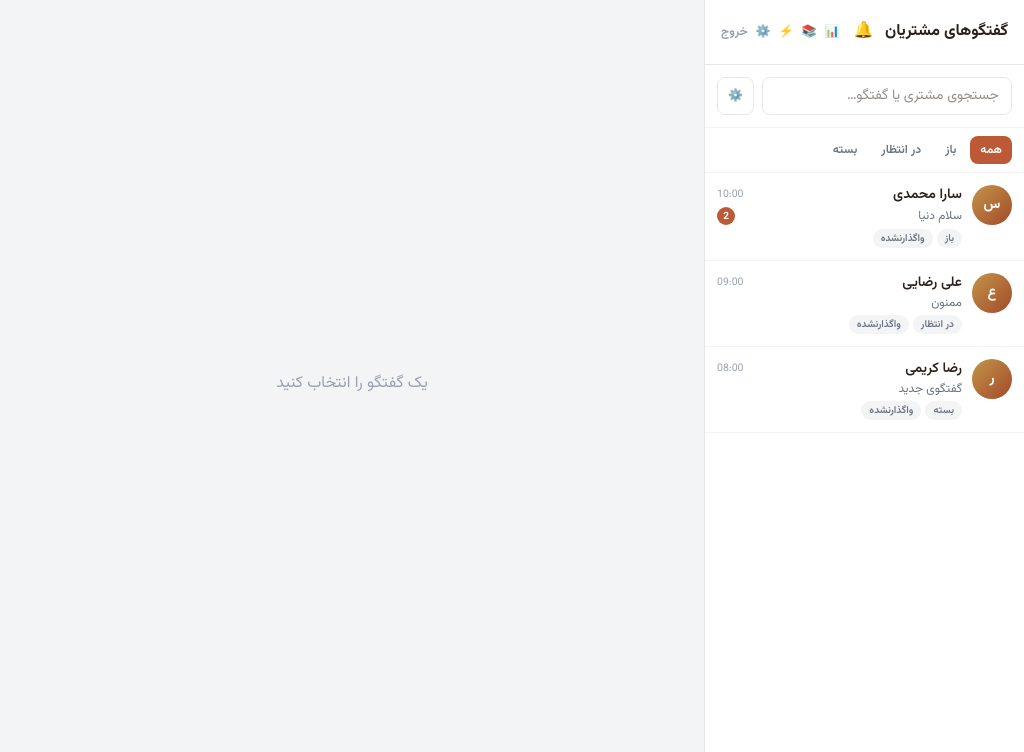
Operator dashboard — customer conversations page › shows a reopen button for closed conversations and reopens them
The width and height of the screenshot is (1024, 752).
Click the text "رضا کریمی". click: click(934, 369)
box: [905, 359, 962, 379]
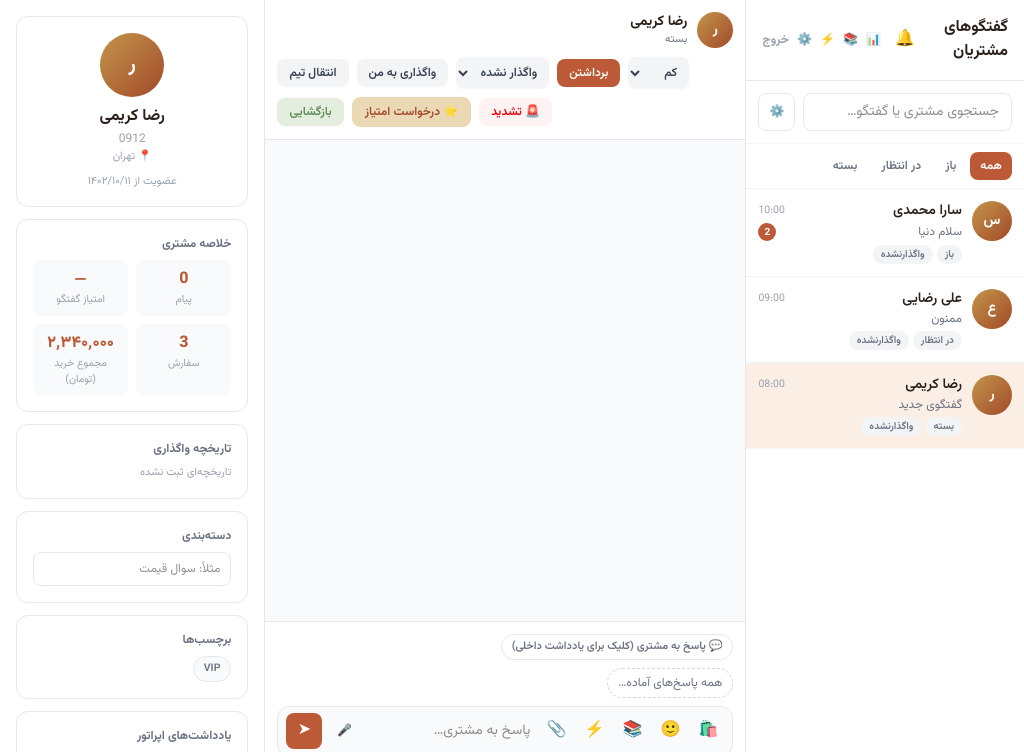
Click the button "بازگشایی". click: click(311, 112)
box: [277, 98, 344, 126]
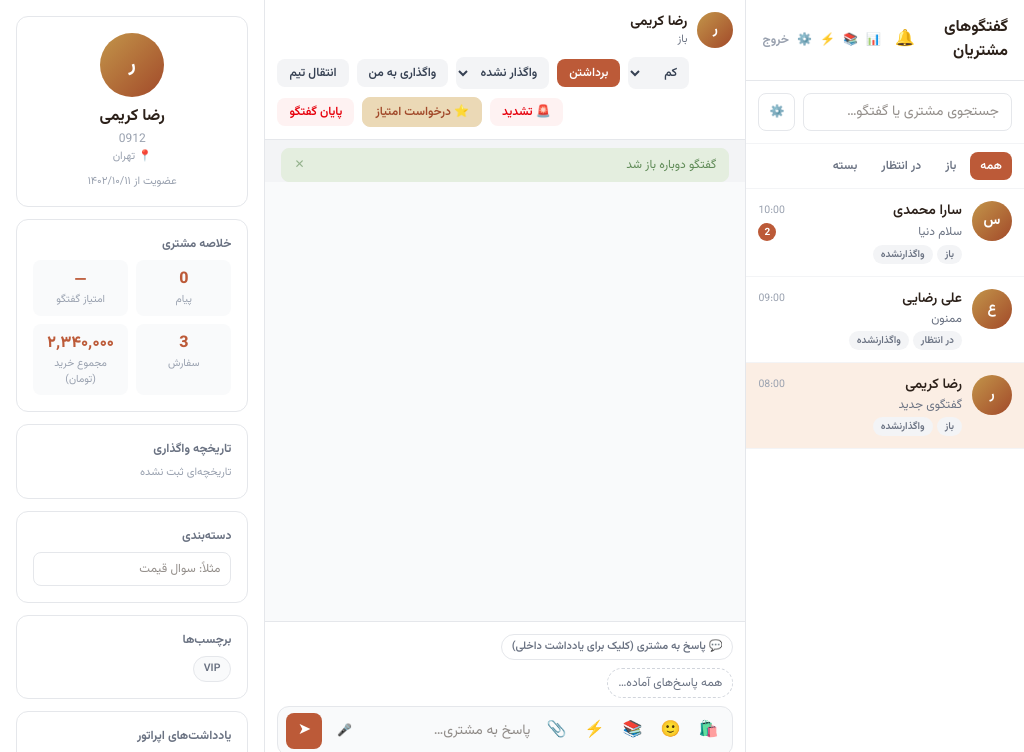
Result: the text "گفتگو دوباره باز شد" is shown at [626, 156, 716, 172]
